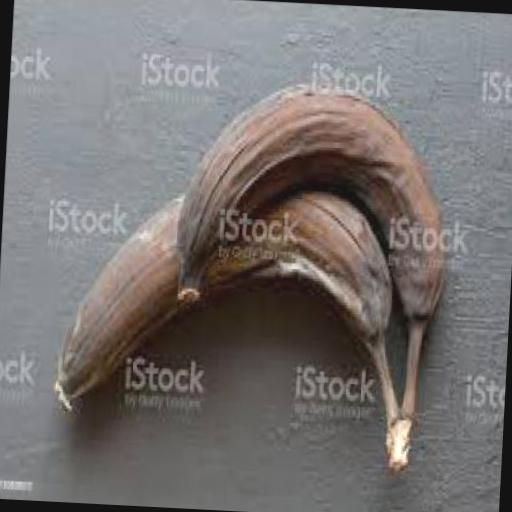biodegradable: (162, 71, 450, 468), (46, 160, 410, 463)
